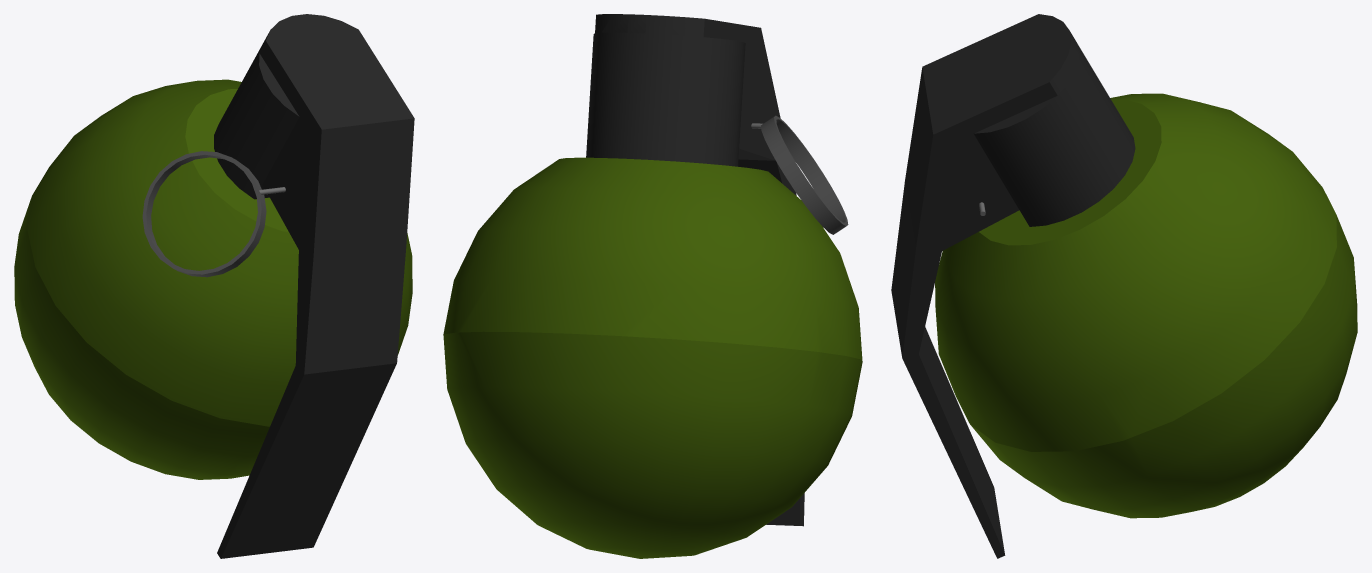
File: Grenade.dae
The picture shows the model from 3 angles, left to right: view 1: azimuth 30°, elevation 25°; view 2: azimuth 150°, elevation 25°; view 3: azimuth 270°, elevation 25°; orthographic projection. The views are drawn at different scales.
Visible parts, largest first — view 1: group_0 (×2), Component_1 (×2); view 2: group_0 (×2), Component_1 (×2); view 3: group_0 (×2).
Boxes of the visible parts, x1,y1,x2,y2 form: group_0 (×2): [14, 14, 414, 558]; Component_1 (×2): [142, 151, 266, 277]; group_0 (×2): [443, 14, 862, 558]; Component_1 (×2): [761, 115, 848, 234]; group_0 (×2): [891, 14, 1357, 558].
Bounding box in the file's own units: 3.49 × 3.84 × 4.86.
